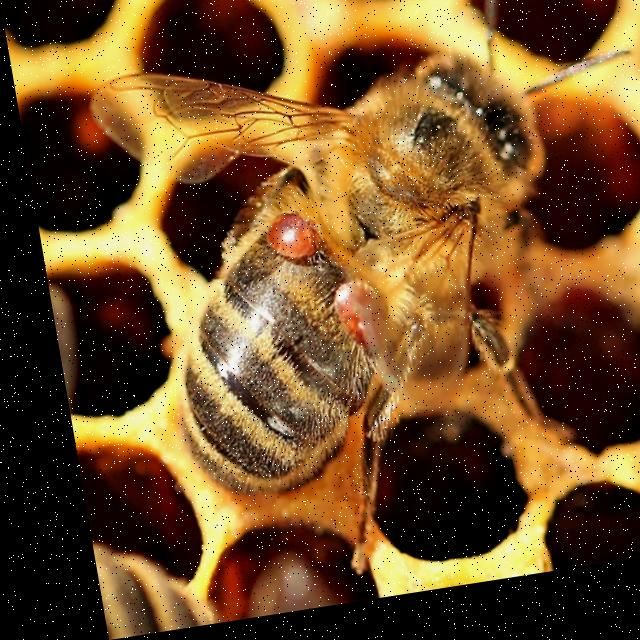Meliponula: (72, 8, 616, 574)
